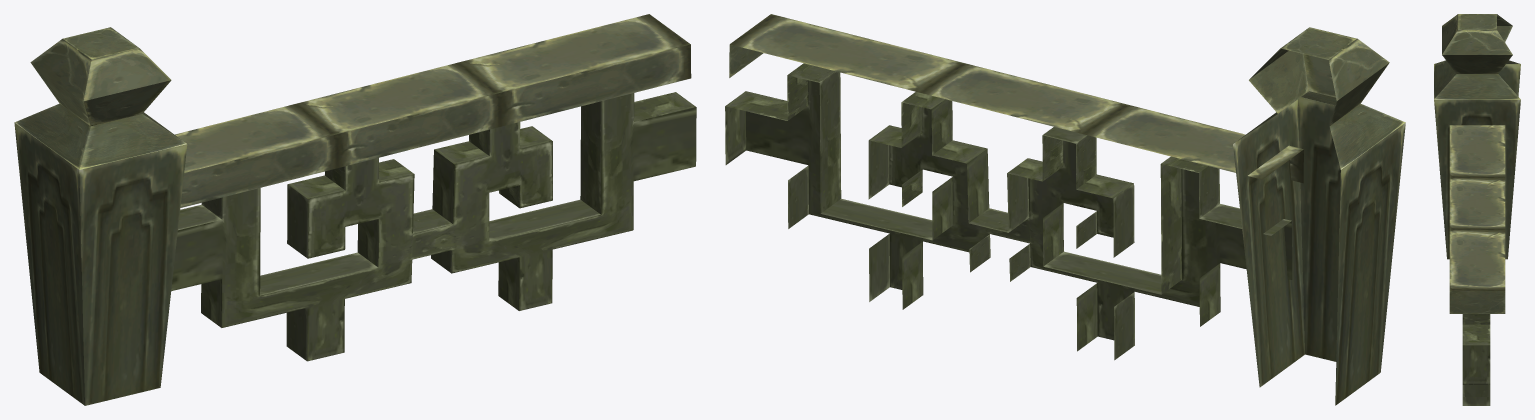
File: zhuzi01.FBX
3 views of the same model, side by side, from view 1: azimuth 30°, elevation 25°; view 2: azimuth 150°, elevation 25°; view 3: azimuth 270°, elevation 25° (orthographic). The views are drawn at different scales.
Parts seen in each view (by area): view 1: Geoset_020; view 2: Geoset_020; view 3: Geoset_020.
Boxes of the visible parts, x1,y1,x2,y2 form: Geoset_020: [14, 14, 696, 405]; Geoset_020: [725, 14, 1405, 405]; Geoset_020: [1434, 14, 1520, 405].
Size of the model in its own units: 4.15 by 2.23 by 0.7306.
